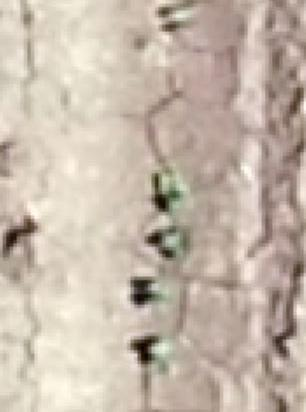cotton: (161, 176, 188, 208), (151, 344, 171, 369), (166, 232, 187, 255), (150, 283, 169, 304)
